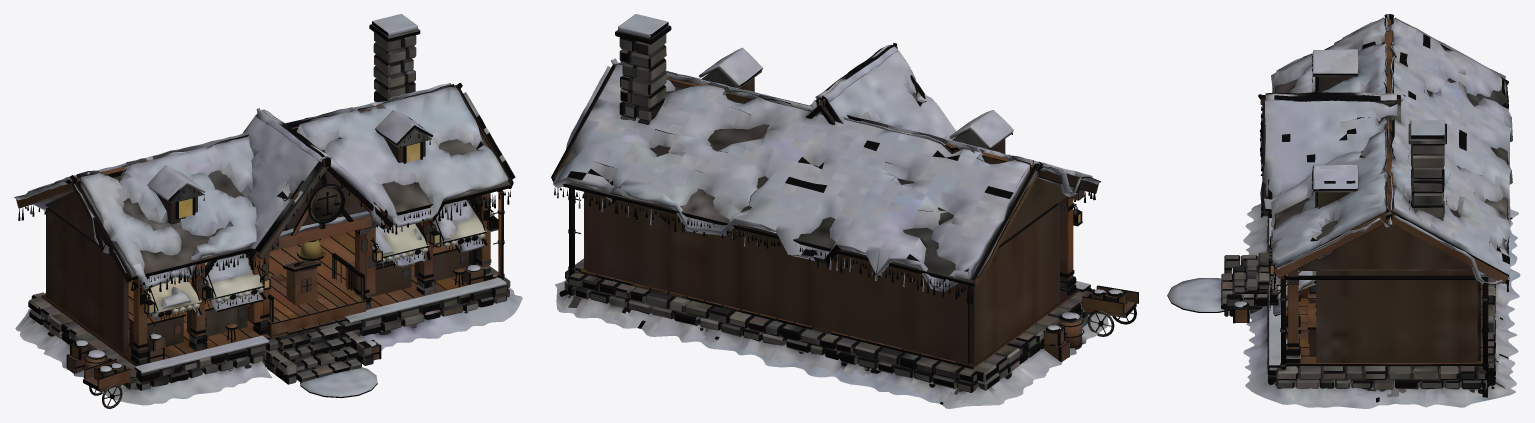
Rendered from market.glb.
The picture shows the model from 3 angles, left to right: view 1: azimuth 30°, elevation 25°; view 2: azimuth 150°, elevation 25°; view 3: azimuth 270°, elevation 25°; orthographic projection. The views are drawn at different scales.
Visible parts, largest first — view 1: model; view 2: model; view 3: model.
Part boxes in pixels (x1,y1,x2,y2): model: [14, 14, 522, 408]; model: [551, 14, 1138, 408]; model: [1167, 14, 1520, 408].
Size of the model in its own units: 13.72 by 7.25 by 9.19.
2 materials, 2 textured.
